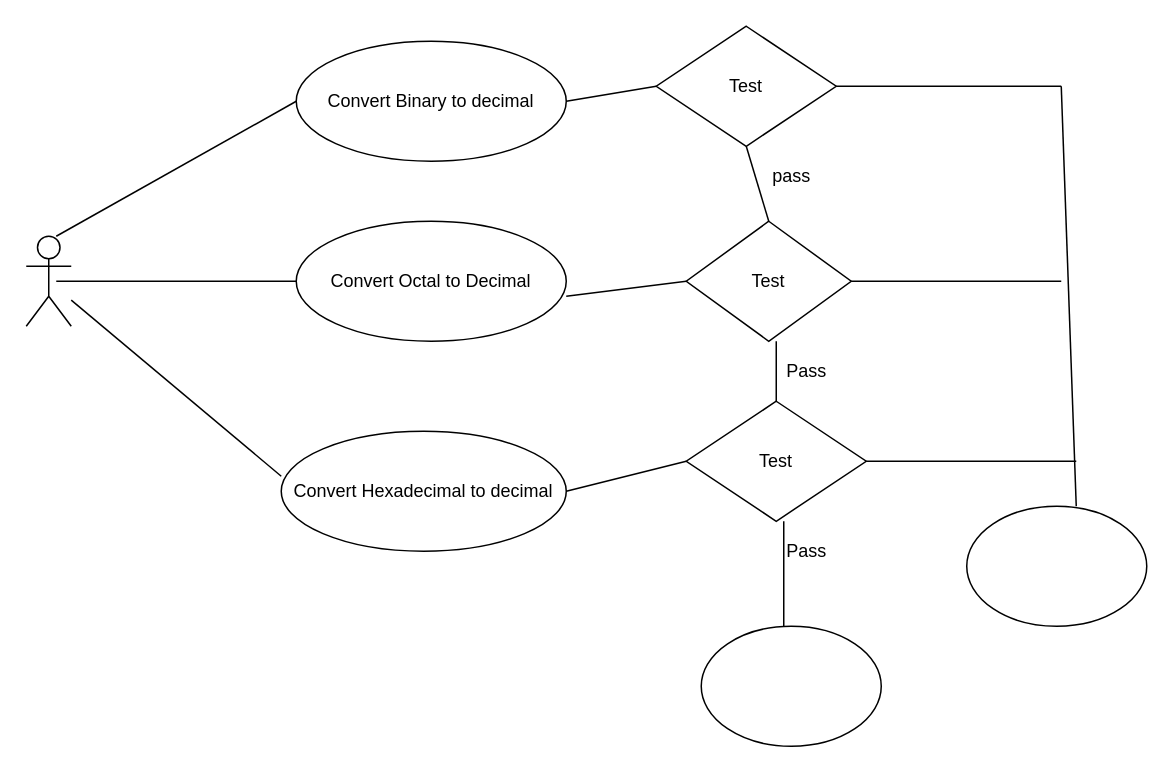
The diagram is 1173 pixels wide and 773 high, and some of its shapes have lost their labels. Each missing label, with the centre of its shape:
"Actor" belongs at (x=48, y=280).
"Print Fail" belongs at (x=1056, y=565).
"Print Pass" belongs at (x=790, y=685).
